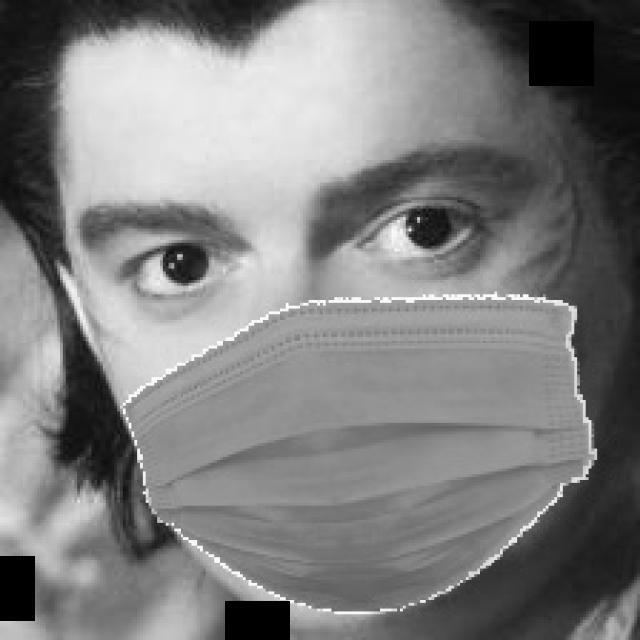mask: (120, 297, 597, 614)
